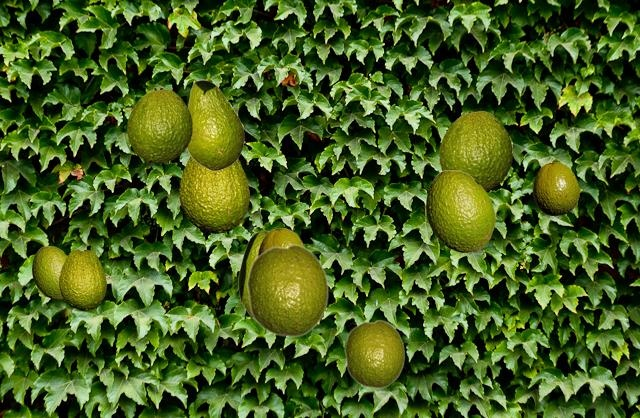avocado: (246, 243, 328, 337), (439, 111, 511, 190), (426, 170, 494, 251), (179, 156, 248, 232), (187, 80, 243, 169), (127, 89, 191, 162), (344, 319, 404, 388), (59, 249, 105, 309), (238, 230, 268, 318), (533, 162, 578, 214), (32, 246, 67, 298), (258, 228, 304, 254)
